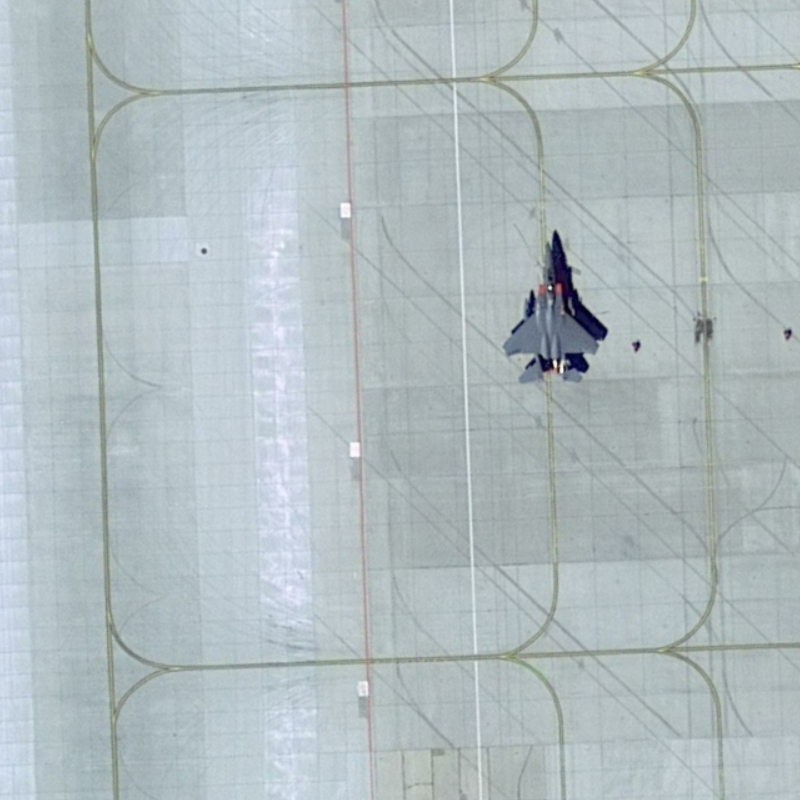A5: (499, 233, 607, 389)
